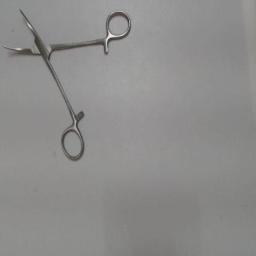Crile Artery Forceps: (2, 5, 134, 165)
